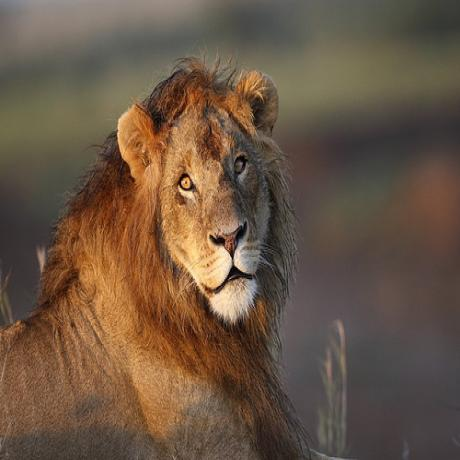Lion: (0, 51, 306, 460)
